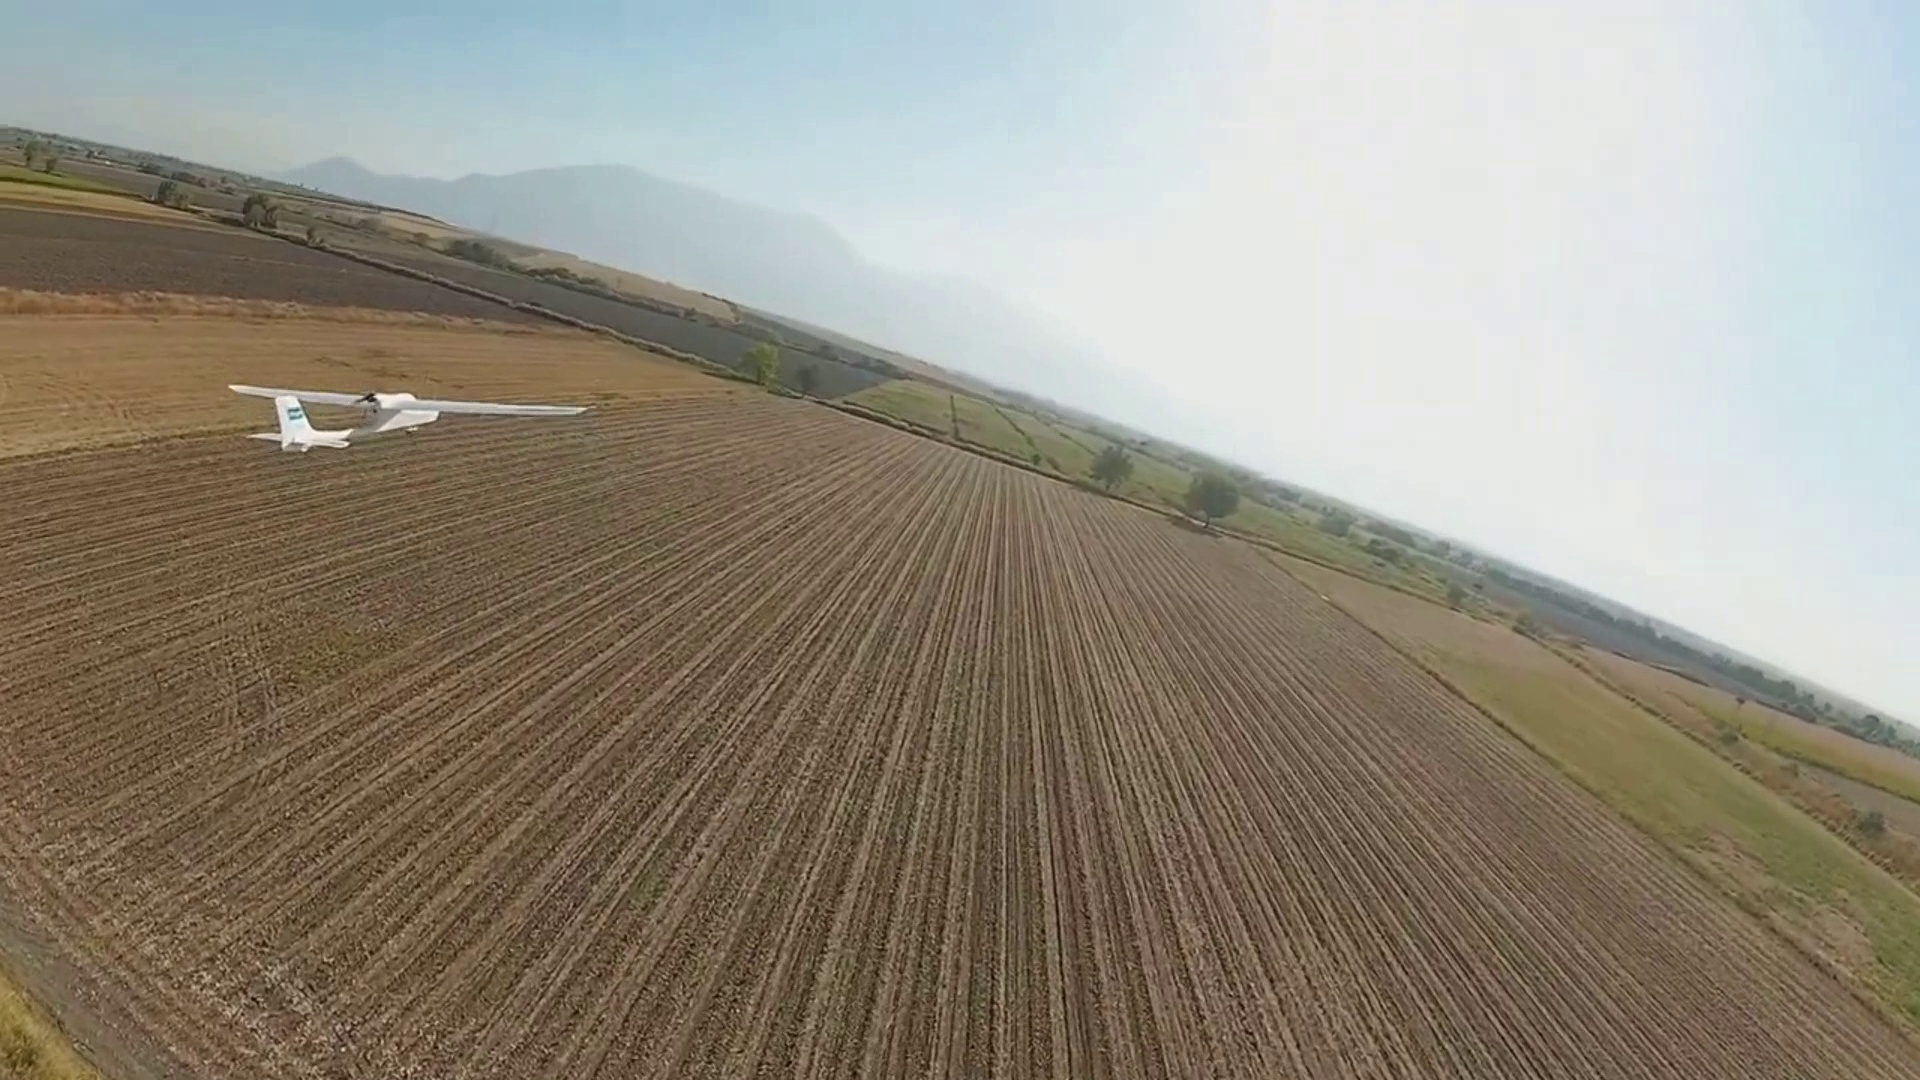airplane: (223, 384, 520, 448), (226, 382, 440, 449)
